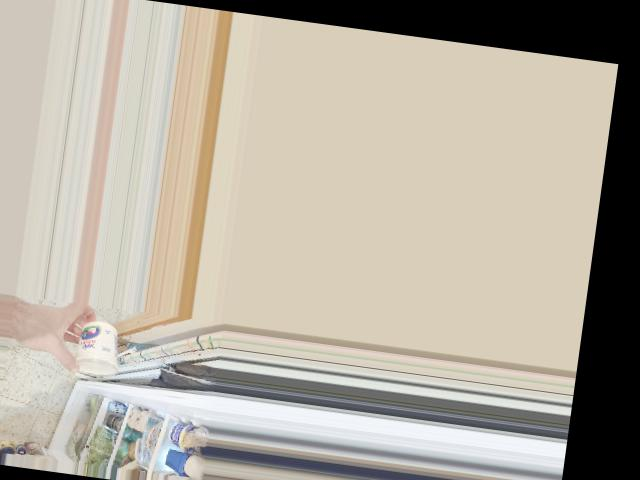cotage: (74, 314, 126, 375)
